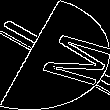M_W: (10, 24, 100, 86)
